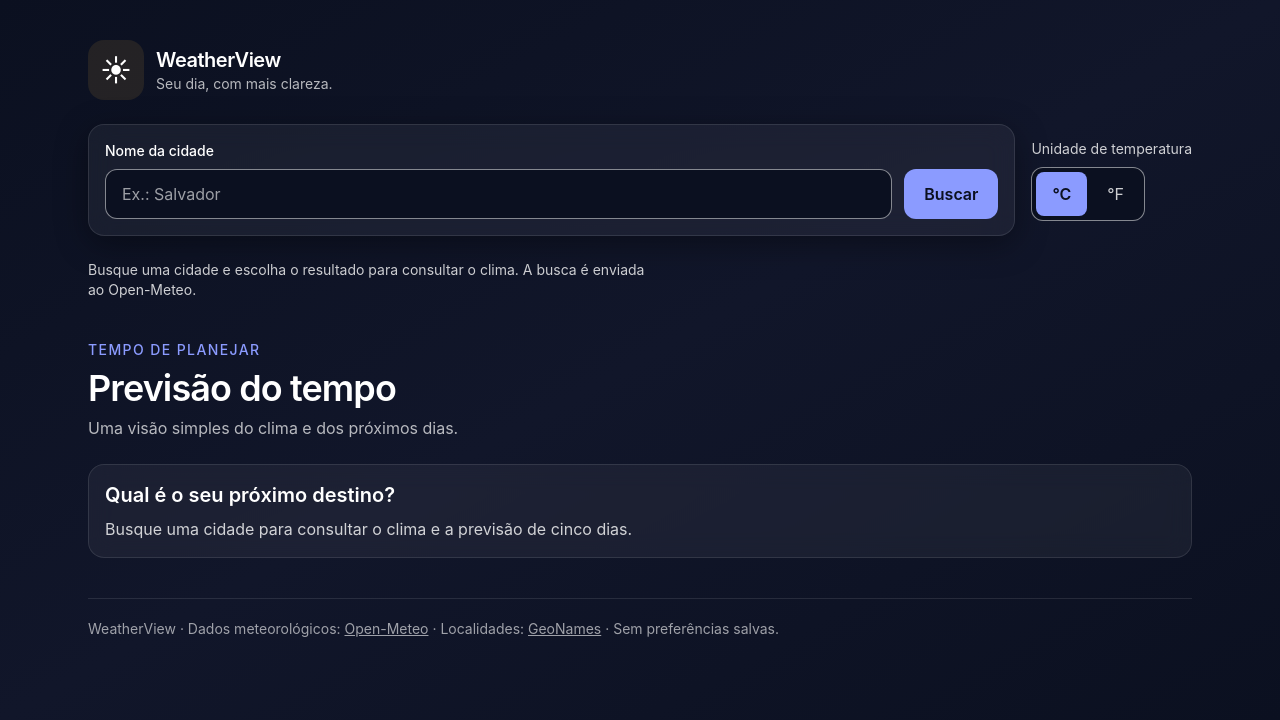
Test: App integrado › vazio é busca sem resultados; erro repete o termo enviado e preserva foco
Type "Nenhuma" into the field labelled "Nome da cidade" at (499, 194), box x1=105 y1=169 x2=892 y2=219
Then press Enter
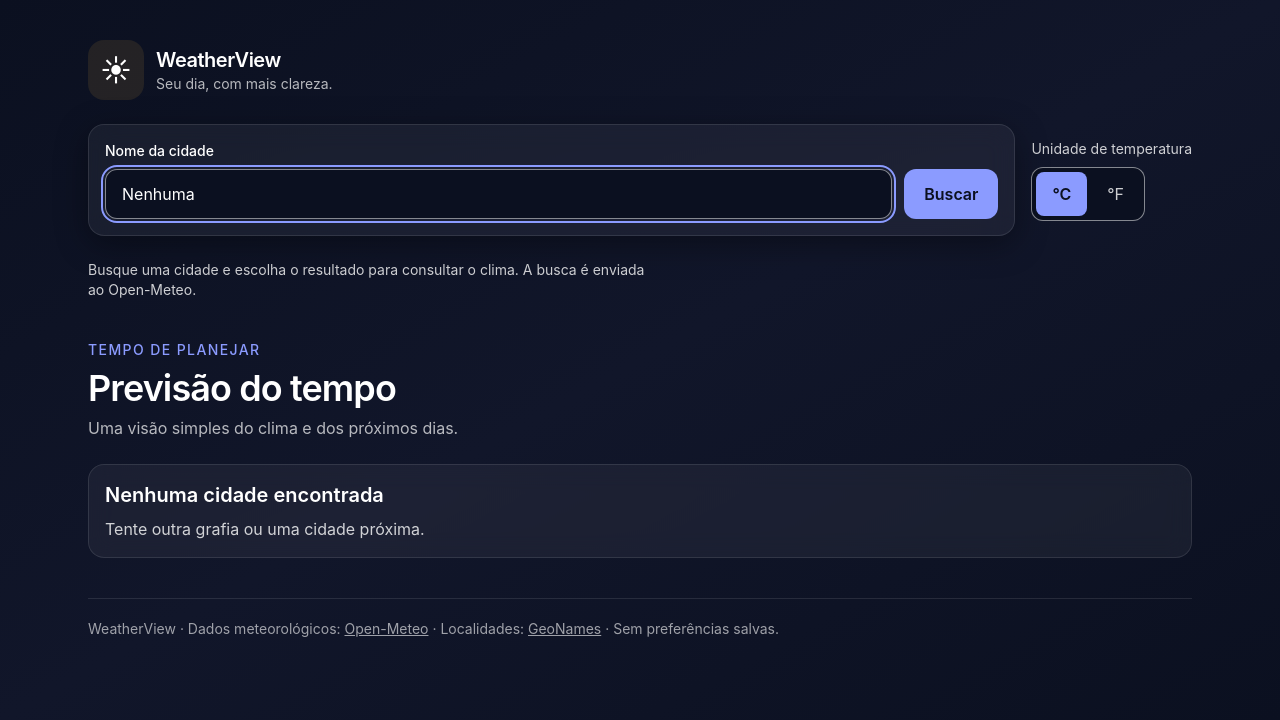
Expected: the message shows "Nenhuma cidade encontrada", x1=105 y1=483 x2=384 y2=507
Replace the text in the field labelled "Nome da cidade" with "Salvador" at (499, 194), box x1=105 y1=169 x2=892 y2=219
Then press Enter
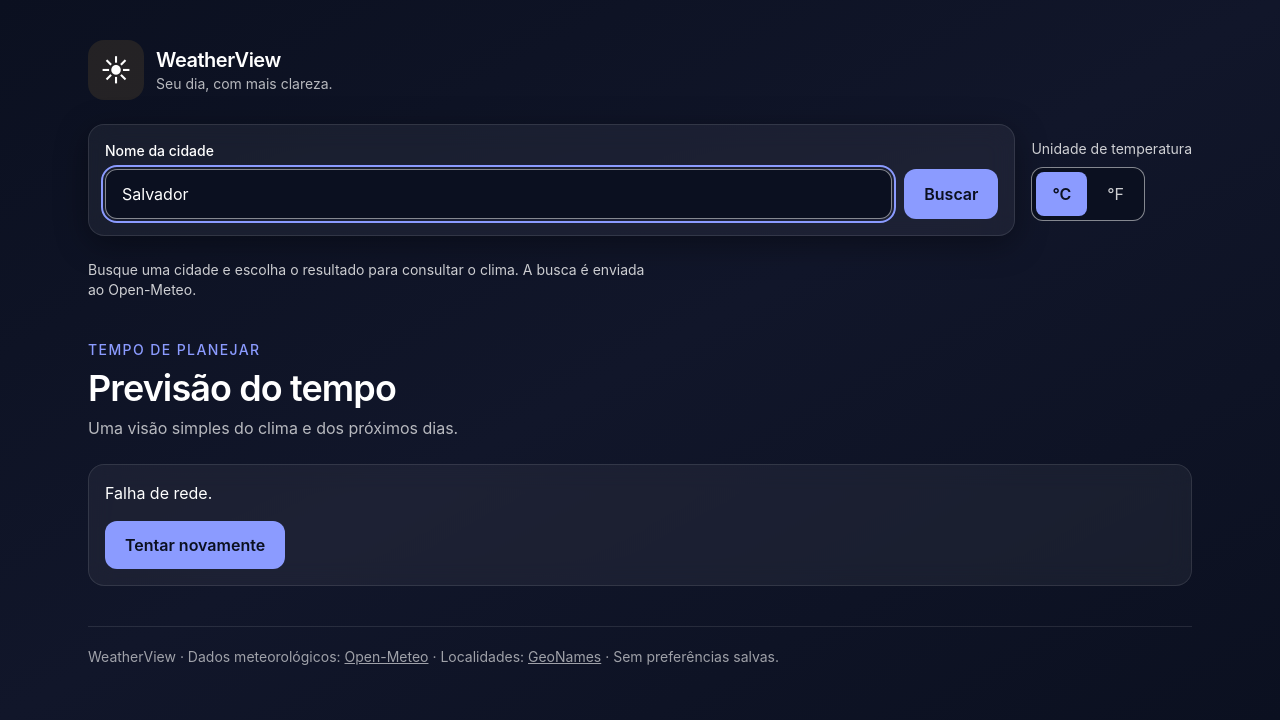
Expected: the message reads "Falha de rede.", x1=105 y1=483 x2=212 y2=503
Replace the text in the field labelled "Nome da cidade" with "Texto não enviado" at (499, 194), box x1=105 y1=169 x2=892 y2=219
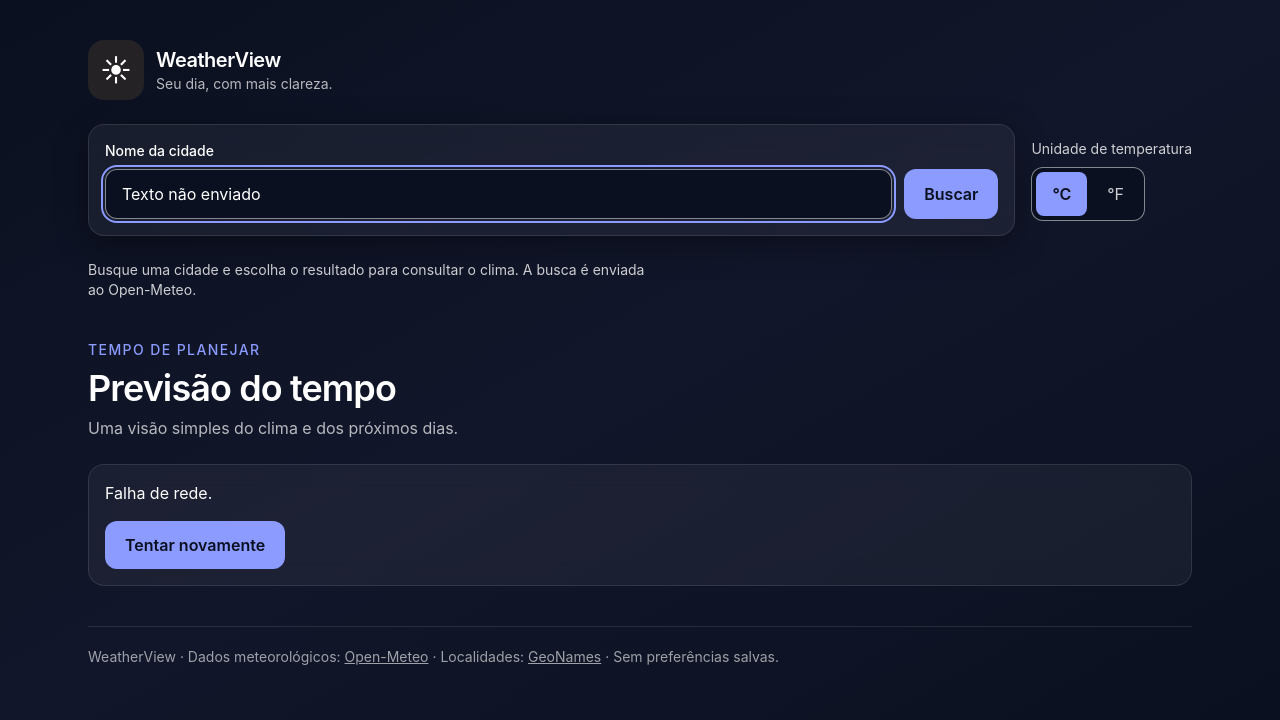
Click the button "Tentar novamente" at (195, 545), box x1=105 y1=521 x2=285 y2=569
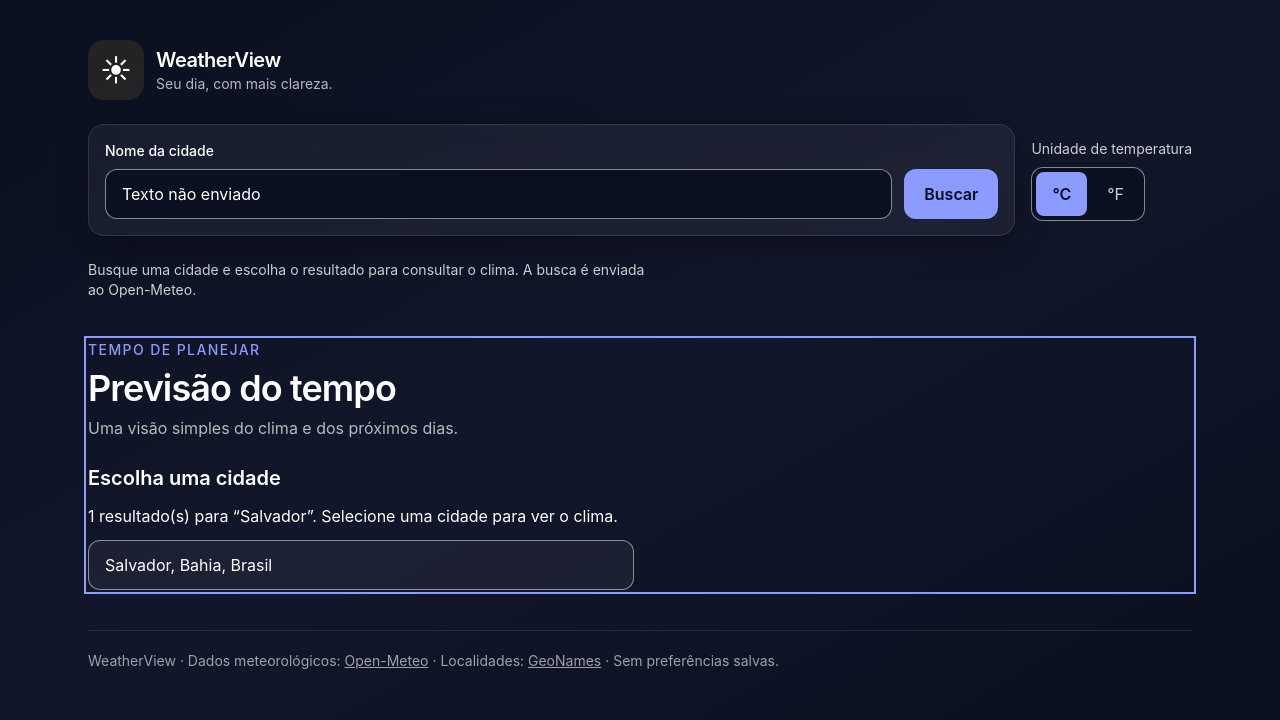
Expected: the button "Salvador, Bahia, Brasil" is shown, x1=88 y1=540 x2=634 y2=590
